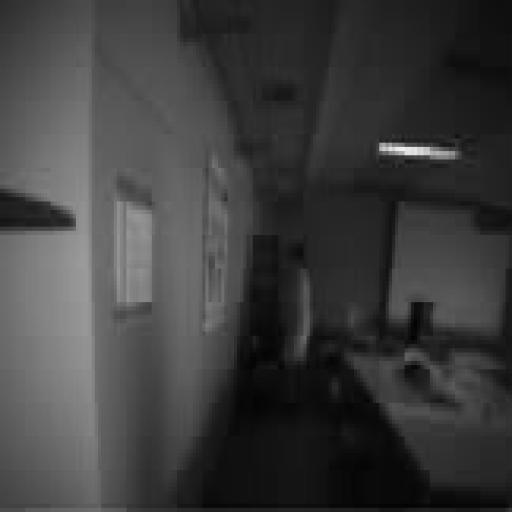human: (282, 244, 312, 365)
